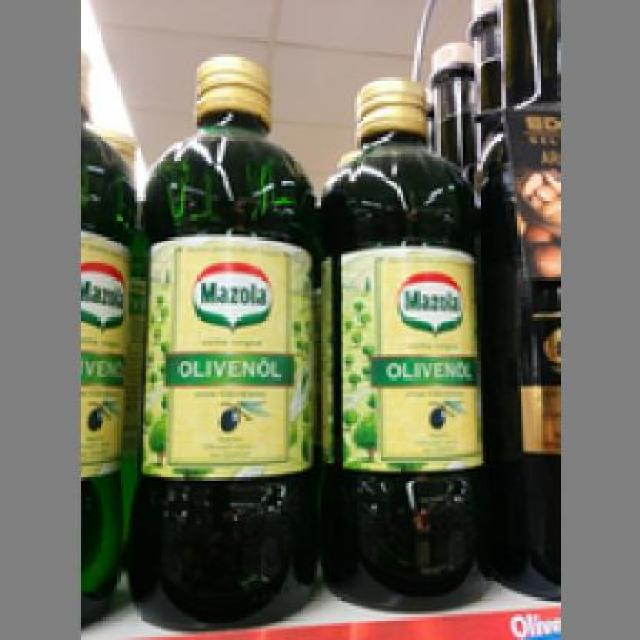Oil: (128, 51, 324, 628), (317, 74, 483, 612)
